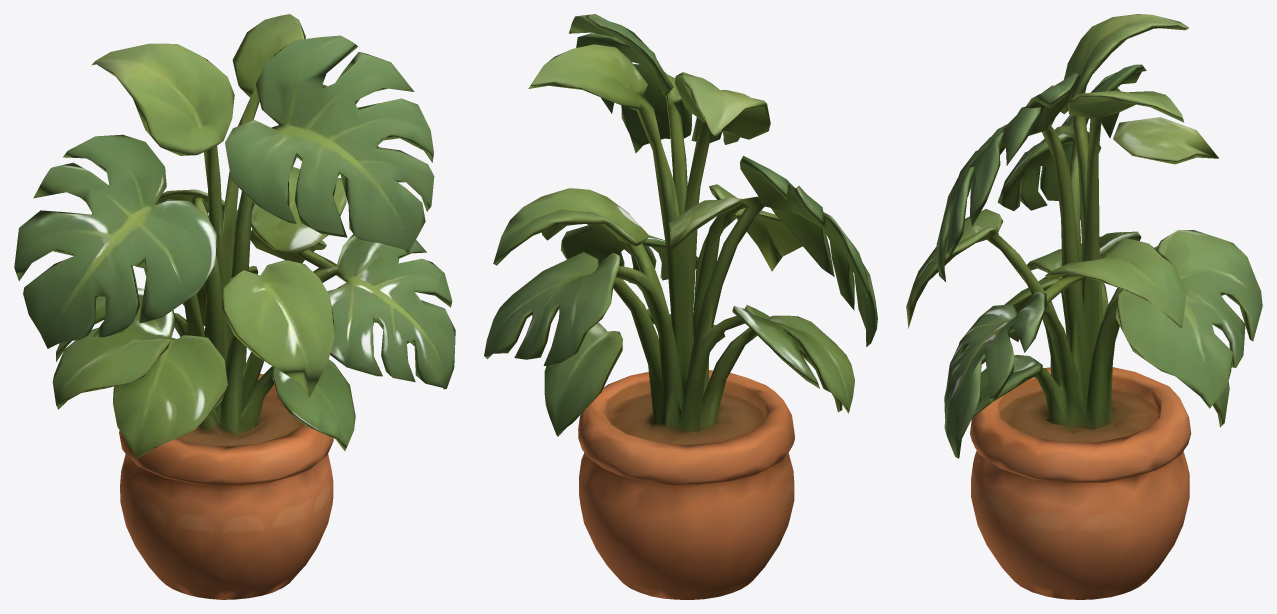
File: houseplant.glb
3 views of the same model, side by side, from view 1: azimuth 30°, elevation 25°; view 2: azimuth 150°, elevation 25°; view 3: azimuth 270°, elevation 25° (orthographic). The views are drawn at different scales.
Visible parts, largest first — view 1: tripo_node_3247425c-f4ef-4c1c-b75e-0ac833b1bc00; view 2: tripo_node_3247425c-f4ef-4c1c-b75e-0ac833b1bc00; view 3: tripo_node_3247425c-f4ef-4c1c-b75e-0ac833b1bc00.
Part boxes in pixels (bbox=[...]): tripo_node_3247425c-f4ef-4c1c-b75e-0ac833b1bc00: bbox=[14, 14, 455, 599]; tripo_node_3247425c-f4ef-4c1c-b75e-0ac833b1bc00: bbox=[484, 14, 877, 599]; tripo_node_3247425c-f4ef-4c1c-b75e-0ac833b1bc00: bbox=[906, 14, 1262, 599].
Size of the model in its own units: 0.7689 by 1 by 0.6091.
Materials: 1 (1 with a texture image).
